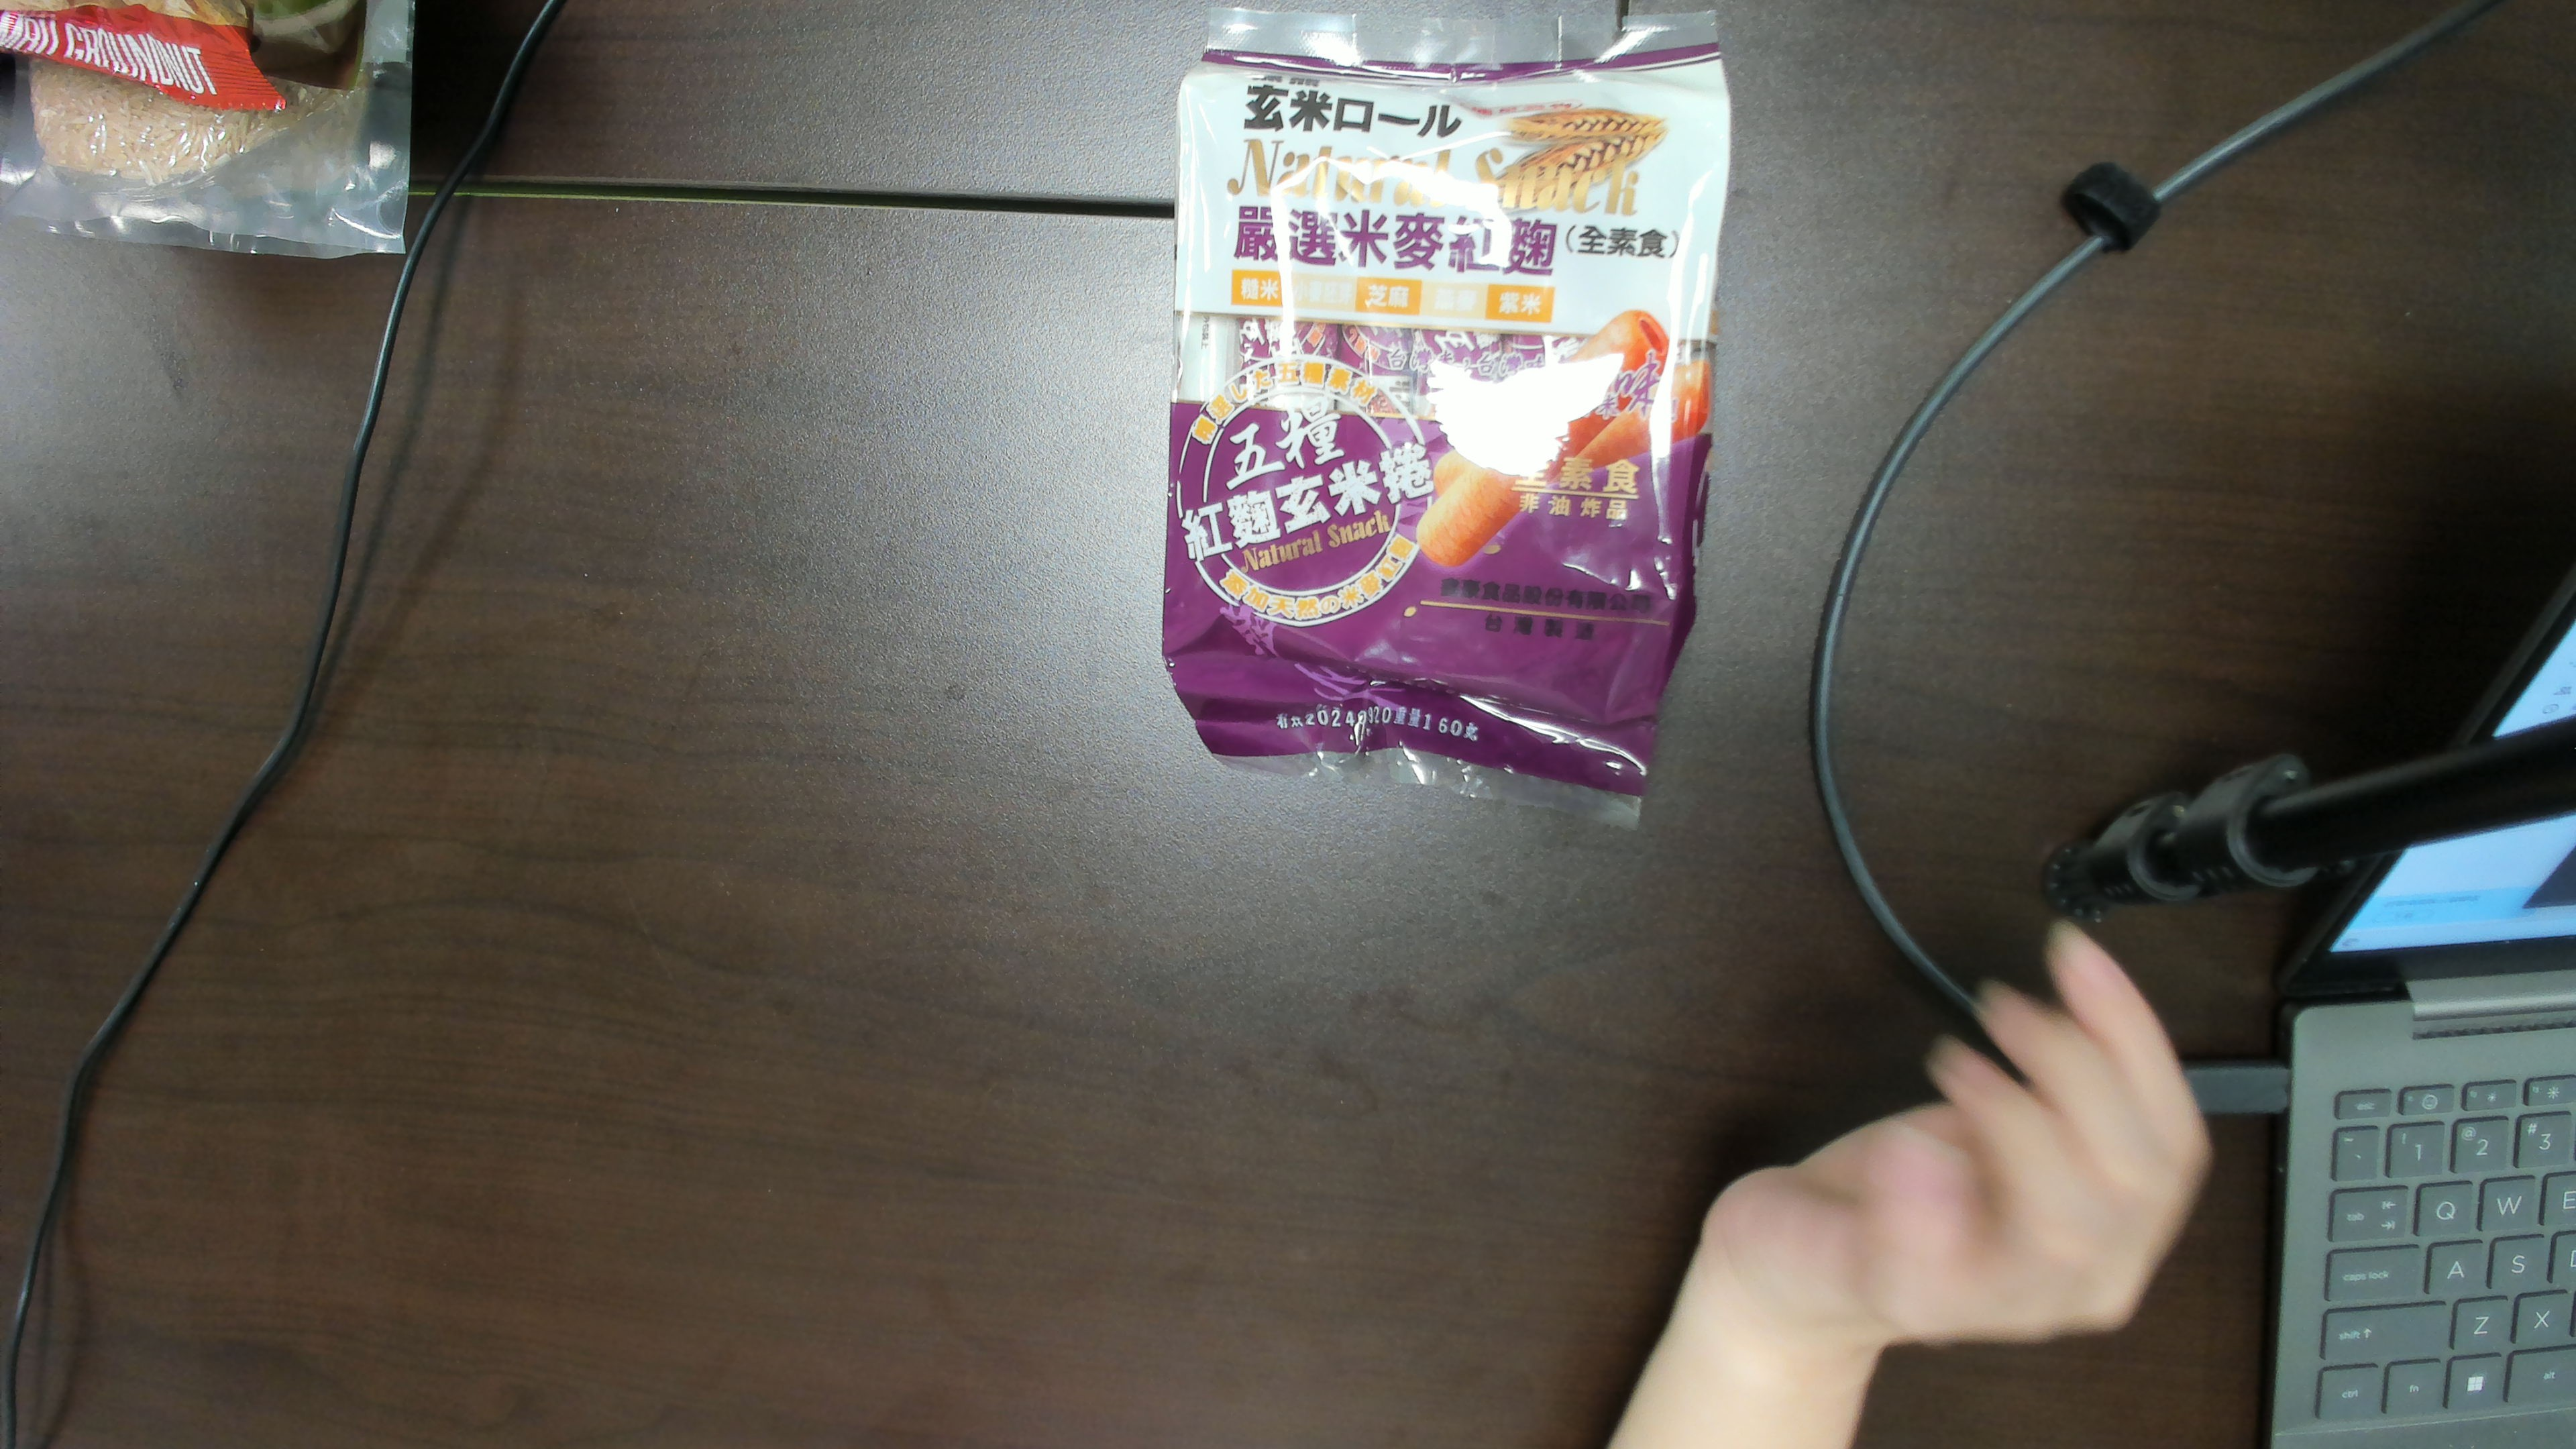BiscuitsCrackersCookies_100-199g_NonHalal_NonHealthy: (1194, 85, 1656, 635)
